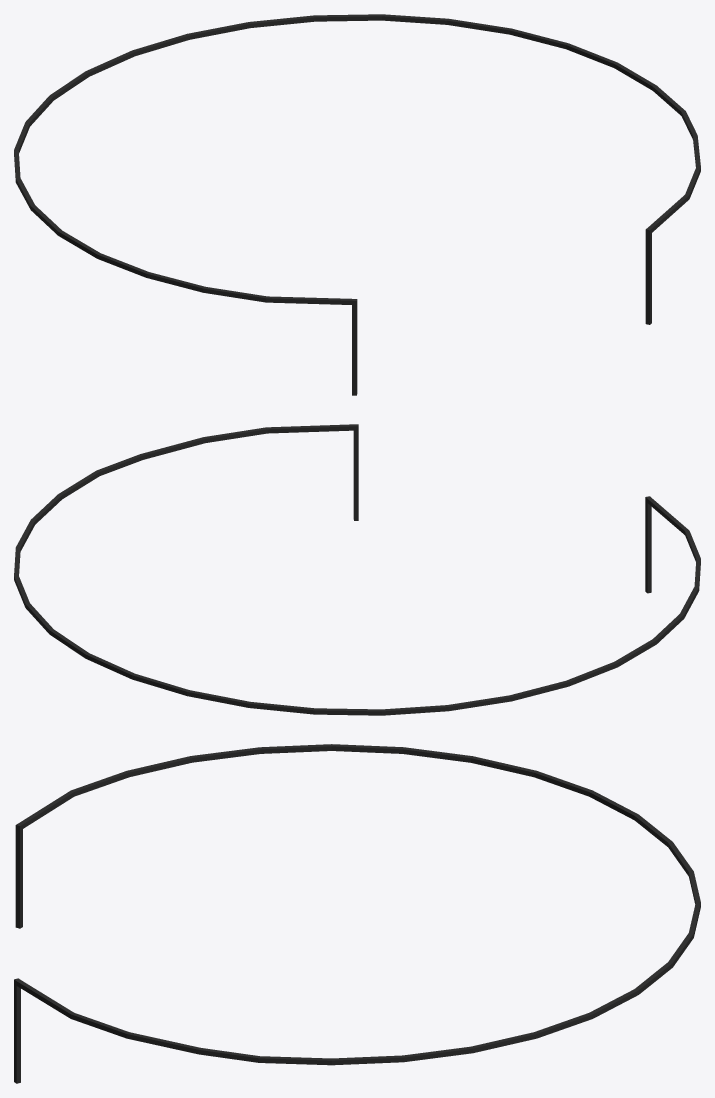
Rendered from G 13 - Black.glb.
3 views of the same model, one above another, from view 1: azimuth 30°, elevation 25°; view 2: azimuth 150°, elevation 25°; view 3: azimuth 270°, elevation 25° (orthographic). The views are drawn at different scales.
Parts seen in each view (by area): view 1: G-13-Rails.Mid; view 2: G-13-Rails.Mid; view 3: G-13-Rails.Mid.
Part boxes in pixels (<box>): G-13-Rails.Mid: <box>14,14,700,395</box>; G-13-Rails.Mid: <box>14,424,700,715</box>; G-13-Rails.Mid: <box>14,744,700,1083</box>.
Size of what is drawn, in the model's own units: 7.27 by 1.1 by 6.67.
Materials: 1 (1 with a texture image).
